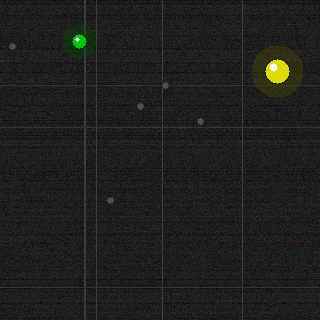green_normal: (70, 32, 88, 50)
yellow_warning: (263, 57, 291, 85)
